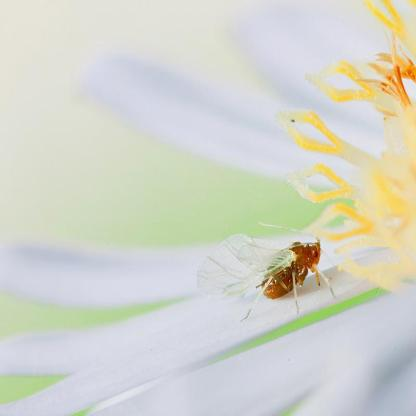aphid: (195, 232, 337, 322)
